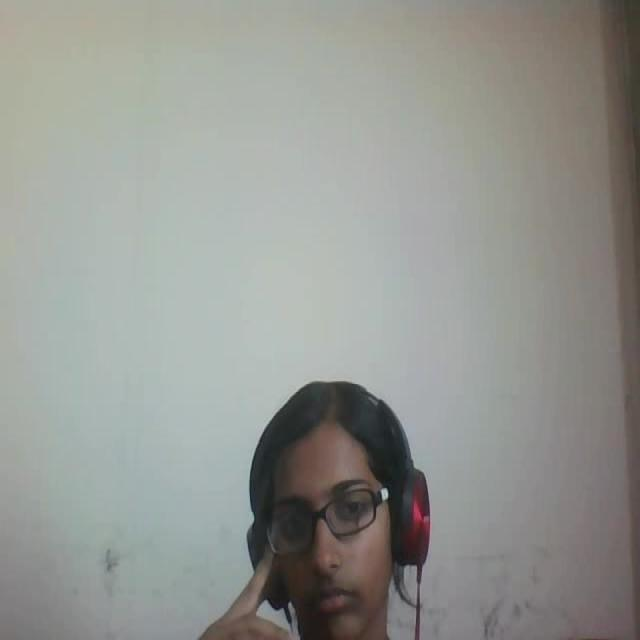Bored: (203, 295, 462, 640)
